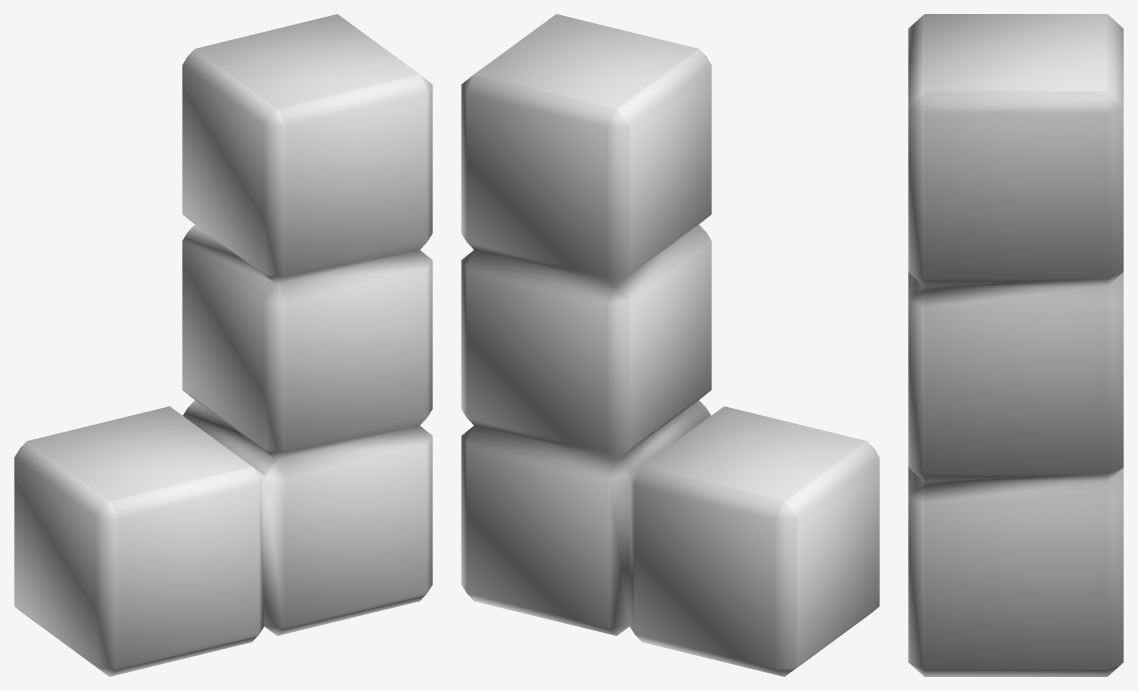
3 renders of one model, left to right at view 1: azimuth 30°, elevation 25°; view 2: azimuth 150°, elevation 25°; view 3: azimuth 270°, elevation 25°, orthographic. The views are drawn at different scales.
Parts seen in each view (by area): view 1: J-shape; view 2: J-shape; view 3: J-shape.
Boxes of the visible parts, bbox=[...] form: J-shape: bbox=[14, 14, 432, 676]; J-shape: bbox=[461, 14, 879, 676]; J-shape: bbox=[908, 14, 1123, 676].
Bounding box in the file's own units: 2 × 3 × 1.
